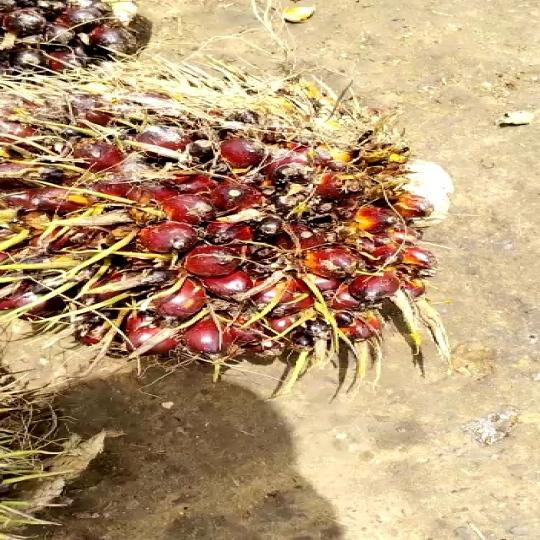masak: (0, 60, 455, 377)
